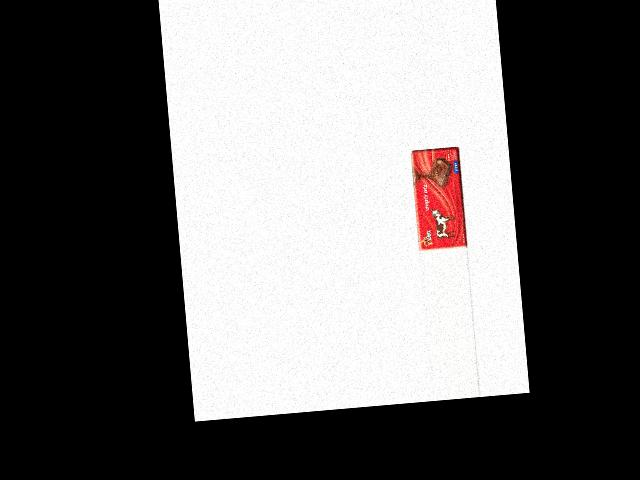chocolate: (410, 146, 467, 252)
